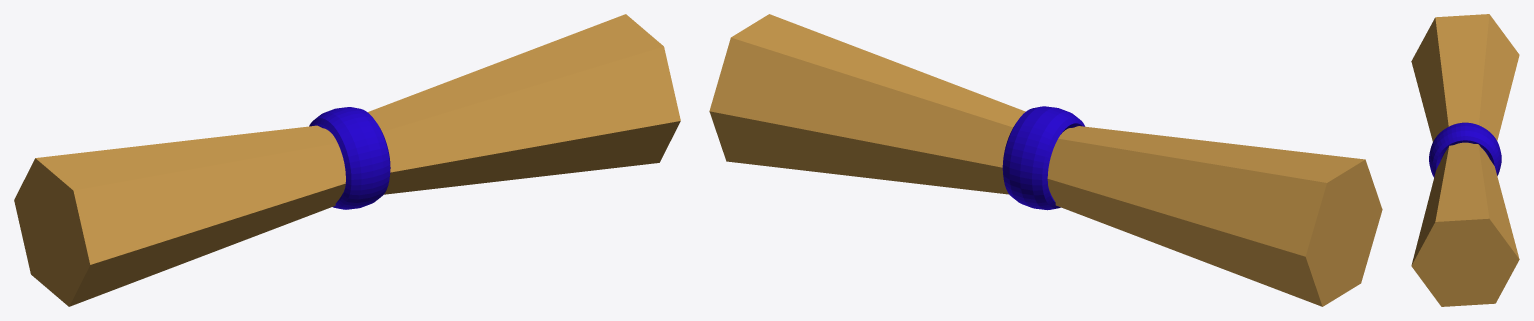
The model's file is Scroll 1.fbx.
3 renders of one model, left to right at view 1: azimuth 30°, elevation 25°; view 2: azimuth 150°, elevation 25°; view 3: azimuth 270°, elevation 25°, orthographic. The views are drawn at different scales.
Parts seen in each view (by area): view 1: Node 0; view 2: Node 0; view 3: Node 0.
Boxes of the visible parts, left/top/right/bottom form: Node 0: left=14, top=14, right=680, bottom=306; Node 0: left=709, top=14, right=1382, bottom=306; Node 0: left=1411, top=14, right=1519, bottom=306.
Bounding box in the file's own units: 0.0984 × 0.0885 × 0.4403.
